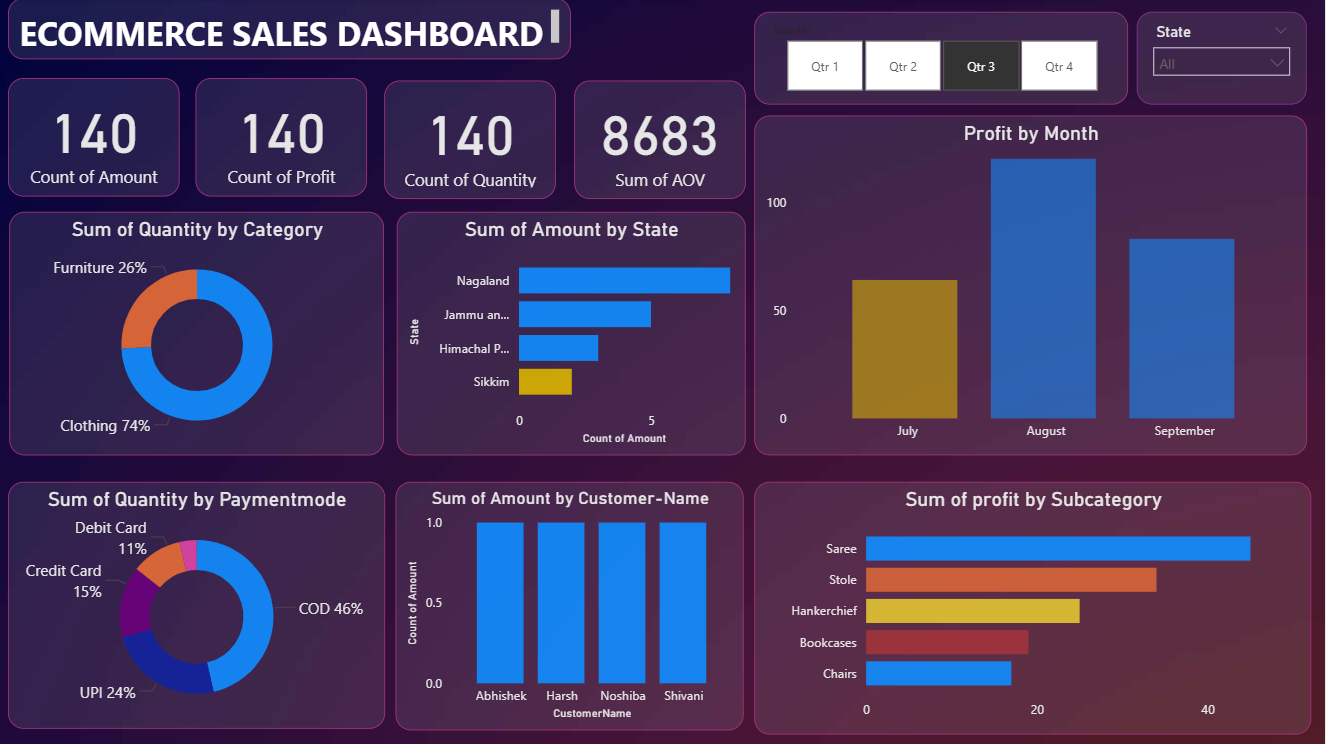

Layout of this report page (visuals, bound fields, positions):
{"tool":"powerbi","page":{"name":"Ecommerce Sales","canvas":[1280,720],"ordinal":0},"visuals":[{"type":"textbox","box":[9.7,0,542.9,59.1],"z":0},{"type":"columnChart","title":"Profit by Month","fields":{"Category":["Orders.Order Date.Variation.Date Hierarchy.Month"],"Y":["CountNonNull(Details.Profit)"]},"box":[729.9,113.4,533.2,328.2],"z":1000},{"type":"donutChart","title":"Sum of Quantity by Category","fields":{"Category":["Details.Category"],"Y":["CountNonNull(Details.Quantity)"]},"box":[10.9,206.3,361.9,235.3],"z":2000},{"type":"clusteredBarChart","title":"Sum of profit by Subcategory","fields":{"Y":["CountNonNull(Details.Profit)"],"Category":["Details.Sub-Category"]},"box":[730,466.6,537.9,244.3],"z":3000},{"type":"donutChart","title":"Sum of Quantity by Paymentmode","fields":{"Y":["CountNonNull(Details.Quantity)"],"Category":["Details.PaymentMode"]},"box":[9.6,466.6,363.6,238.8],"z":4000},{"type":"card","title":"Sum of profit by Subcategory","fields":{"Values":["CountNonNull(Details.Amount)"]},"box":[9.7,77.2,165.3,114.6],"z":5000},{"type":"card","title":"Sum of profit by Subcategory","fields":{"Values":["CountNonNull(Details.Profit)"]},"box":[190.6,77.2,165.3,114.6],"z":6000},{"type":"card","title":"Sum of profit by Subcategory","fields":{"Values":["CountNonNull(Details.Quantity)"]},"box":[372.8,79.6,165.3,114.6],"z":7000},{"type":"card","title":"Sum of profit by Subcategory","fields":{"Values":["Sum(Details.AOV)"]},"box":[556.2,79.6,165.3,114.6],"z":8000},{"type":"clusteredBarChart","title":"Sum of Amount by State","fields":{"Y":["CountNonNull(Details.Amount)"],"Category":["Orders.State"]},"box":[384.9,206.3,336.6,235.3],"z":9000},{"type":"columnChart","title":"Sum of Amount by Customer-Name","fields":{"Category":["Orders.CustomerName"],"Y":["CountNonNull(Details.Amount)"]},"box":[384.2,466.6,336.2,240.1],"z":10000},{"type":"slicer","fields":{"Values":["Orders.Order Date.Variation.Date Hierarchy.Quarter"]},"box":[729.9,13.3,360.7,89.3],"z":11000},{"type":"slicer","fields":{"Values":["Orders.State"]},"box":[1099.1,13.3,164.1,89.3],"z":12000}]}

Visuals, with their boxes in screenshot pixels (x1, y1, x2, y2), scaled from the page's 1280x720 canvas onto the 1326x744 screenshot:
textbox: bbox(10, 0, 572, 61)
"Profit by Month" columnChart: bbox(756, 117, 1308, 456)
"Sum of Quantity by Category" donutChart: bbox(11, 213, 386, 456)
"Sum of profit by Subcategory" clusteredBarChart: bbox(756, 482, 1313, 735)
"Sum of Quantity by Paymentmode" donutChart: bbox(10, 482, 387, 729)
"Sum of profit by Subcategory" card: bbox(10, 80, 181, 198)
"Sum of profit by Subcategory" card: bbox(197, 80, 369, 198)
"Sum of profit by Subcategory" card: bbox(386, 82, 557, 201)
"Sum of profit by Subcategory" card: bbox(576, 82, 747, 201)
"Sum of Amount by State" clusteredBarChart: bbox(399, 213, 747, 456)
"Sum of Amount by Customer-Name" columnChart: bbox(398, 482, 746, 730)
slicer - Orders.Order Date.Variation.Date Hierarchy.Quarter: bbox(756, 14, 1130, 106)
slicer - Orders.State: bbox(1139, 14, 1309, 106)
